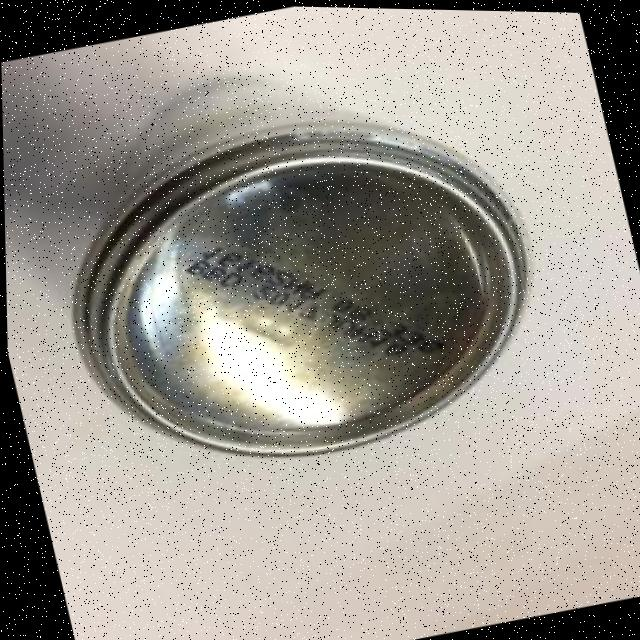metal: (29, 60, 575, 512)
